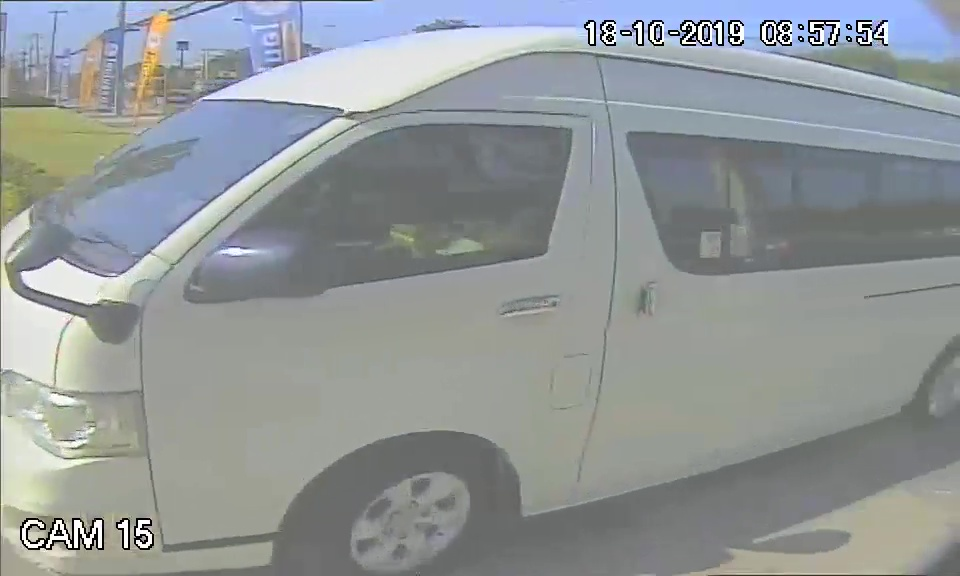van: (6, 23, 838, 549)
